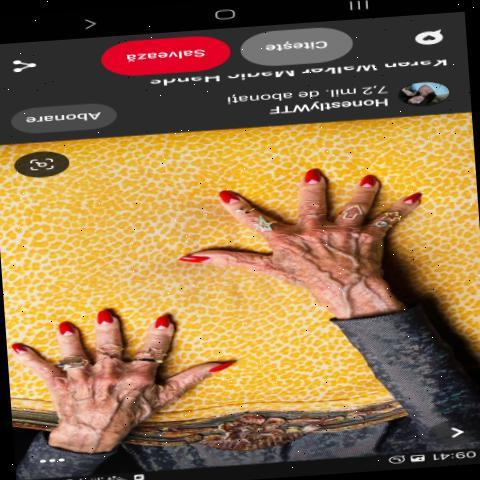Hands: (164, 150, 447, 331), (0, 293, 242, 448)
